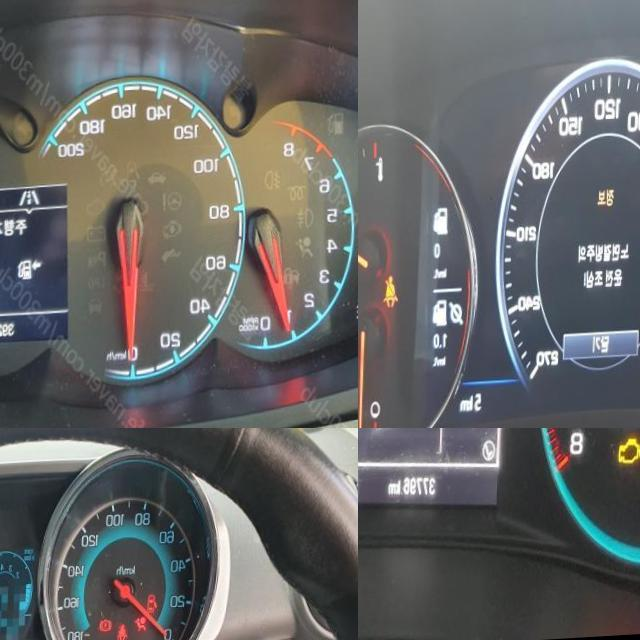Doors: (149, 598, 161, 617)
